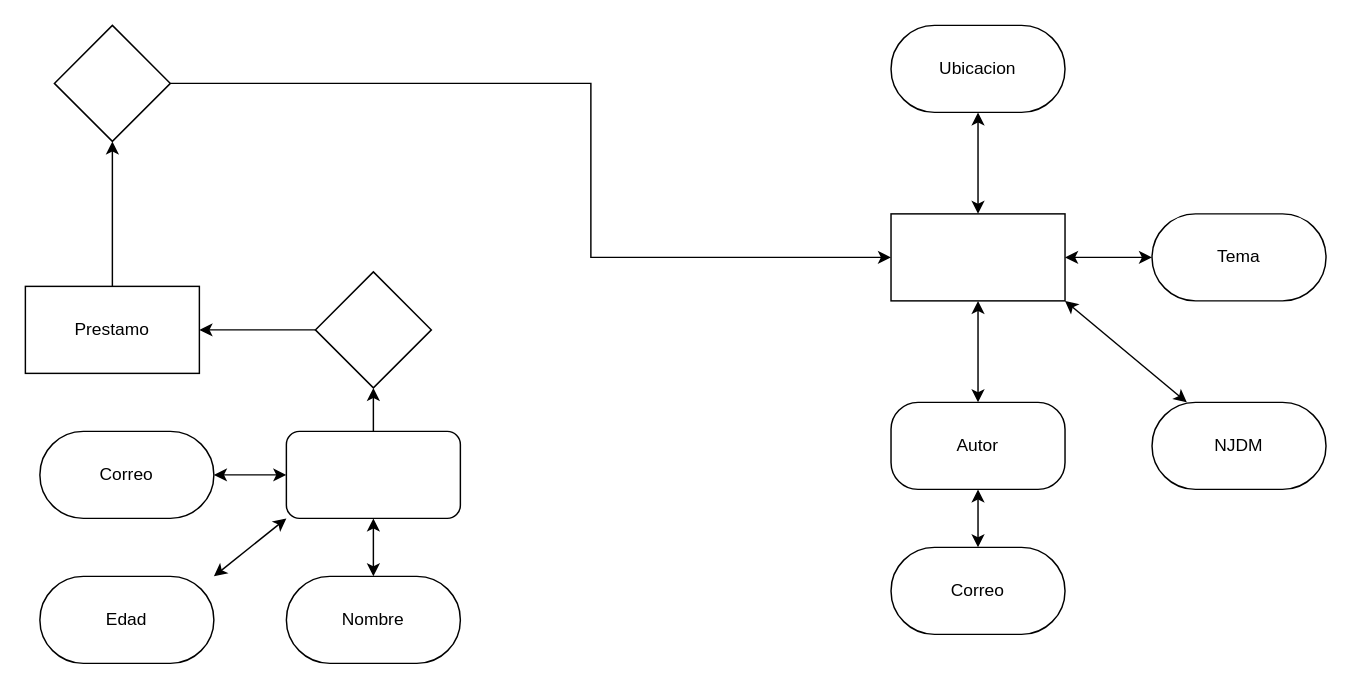
This 1351x689 diagram has some shape labels left out. Here are the shapes that lost their labels. From the top down, the centre of each, then its label:
At pixel 111 82: "ES pedido".
At pixel 977 256: "LIBRO".
At pixel 372 329: "Pide".
At pixel 372 474: "Usuario".
